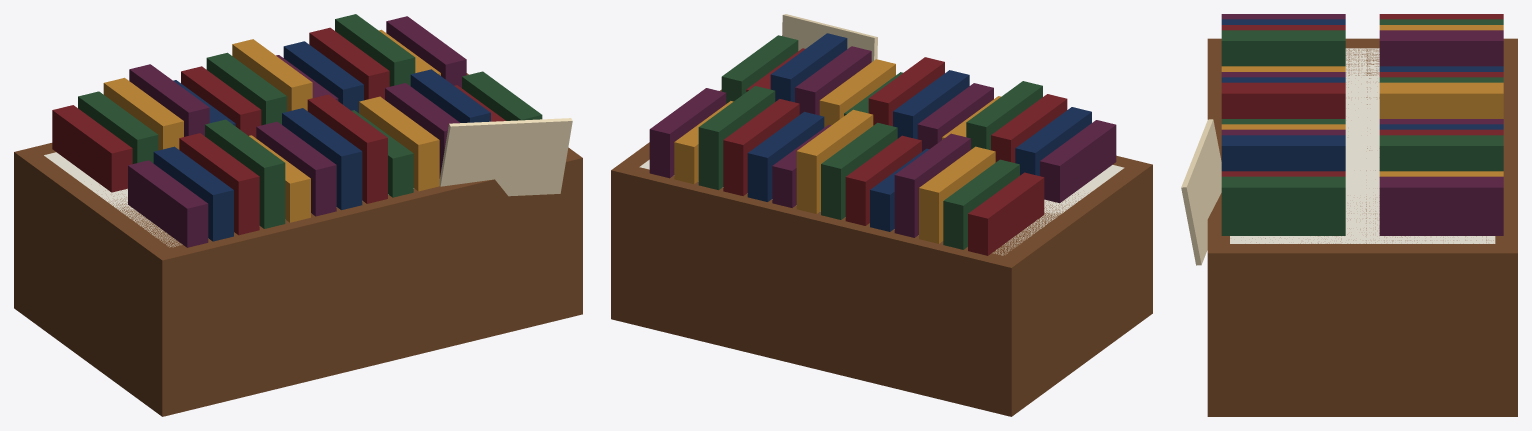
The model's file is book-crate-sale.glb.
The picture shows the model from 3 angles, left to right: view 1: azimuth 30°, elevation 25°; view 2: azimuth 150°, elevation 25°; view 3: azimuth 270°, elevation 25°; orthographic projection. The views are drawn at different scales.
Parts seen in each view (by area): view 1: Cube, Cube.030, Cube.002, Cube.016, Cube.005, Cube.009, Cube.008, Cube.004, Cube.011, Cube.007, Cube.003, Cube.027 (+15 smaller); view 2: Cube, Cube.016, Cube.002, Cube.027, Cube.023, Cube.019, Cube.018, Cube.022, Cube.026, Cube.025, Cube.029, Cube.017 (+16 smaller); view 3: Cube, Cube.001, Cube.015, Cube.029, Cube.005, Cube.009, Cube.013, Cube.019, Cube.023, Cube.027, Cube.030, Cube.012 (+19 smaller).
Part boxes in pixels (x1,y1,x2,y2): Cube: (14,73,582,416); Cube.030: (439,118,572,196); Cube.002: (128,160,208,247); Cube.016: (52,105,132,192); Cube.005: (205,119,285,228); Cube.009: (307,94,387,203); Cube.008: (282,108,362,210); Cube.004: (179,133,259,235); Cube.011: (359,96,439,191); Cube.007: (256,121,336,216); Cube.003: (153,146,233,241); Cube.027: (335,14,415,86); Cube: (611,89,1152,416); Cube.016: (968,172,1044,255); Cube.002: (1040,120,1116,203); Cube.027: (698,86,775,190); Cube.023: (796,109,873,213); Cube.019: (894,133,970,237); Cube.018: (919,146,995,243); Cube.022: (821,122,897,219); Cube.026: (723,99,799,195); Cube.025: (747,111,824,201); Cube.029: (649,88,726,178); Cube.017: (943,159,1019,249); Cube: (1207,38,1517,416); Cube.001: (1230,48,1495,243); Cube.015: (1221,176,1345,235); Cube.029: (1379,176,1503,235); Cube.005: (1221,30,1345,66); Cube.009: (1221,82,1345,118); Cube.013: (1221,135,1345,171); Cube.019: (1379,30,1503,66); Cube.023: (1379,82,1503,118); Cube.027: (1379,135,1503,171); Cube.030: (1181,119,1221,265); Cube.012: (1221,129,1345,135).
Bounding box in the file's own units: 0.9 × 0.4514 × 0.5968.
